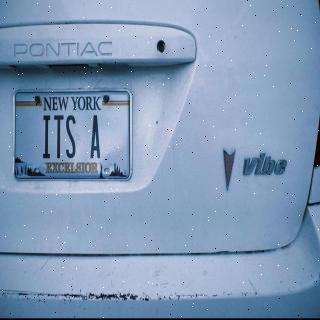license: (13, 90, 134, 184)
